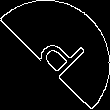P_SW: (25, 24, 85, 86)
